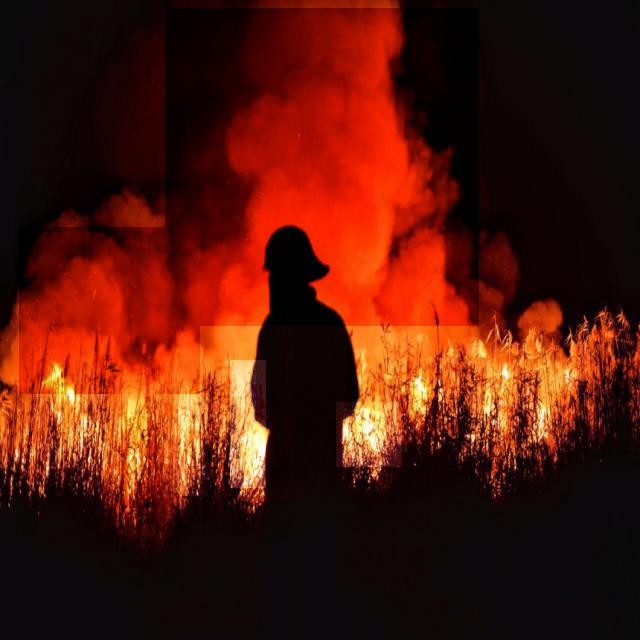Fire: (470, 343, 572, 443), (35, 369, 107, 474), (230, 360, 266, 488), (336, 402, 402, 467), (121, 392, 156, 508), (173, 393, 208, 496), (399, 361, 438, 429)
Smoke: (165, 8, 479, 326), (19, 227, 200, 394)
